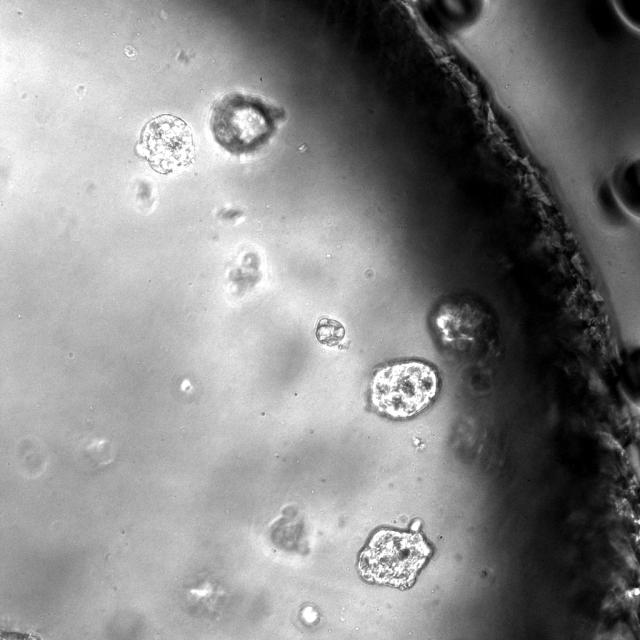organoid: (428, 291, 502, 395), (356, 517, 434, 590), (209, 92, 285, 155), (371, 359, 440, 419), (136, 114, 194, 172), (266, 502, 317, 555), (228, 250, 261, 297), (314, 316, 350, 350), (0, 629, 42, 639)
